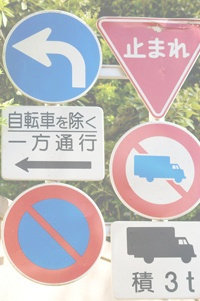Prohibition_sign: (1, 180, 111, 287)
